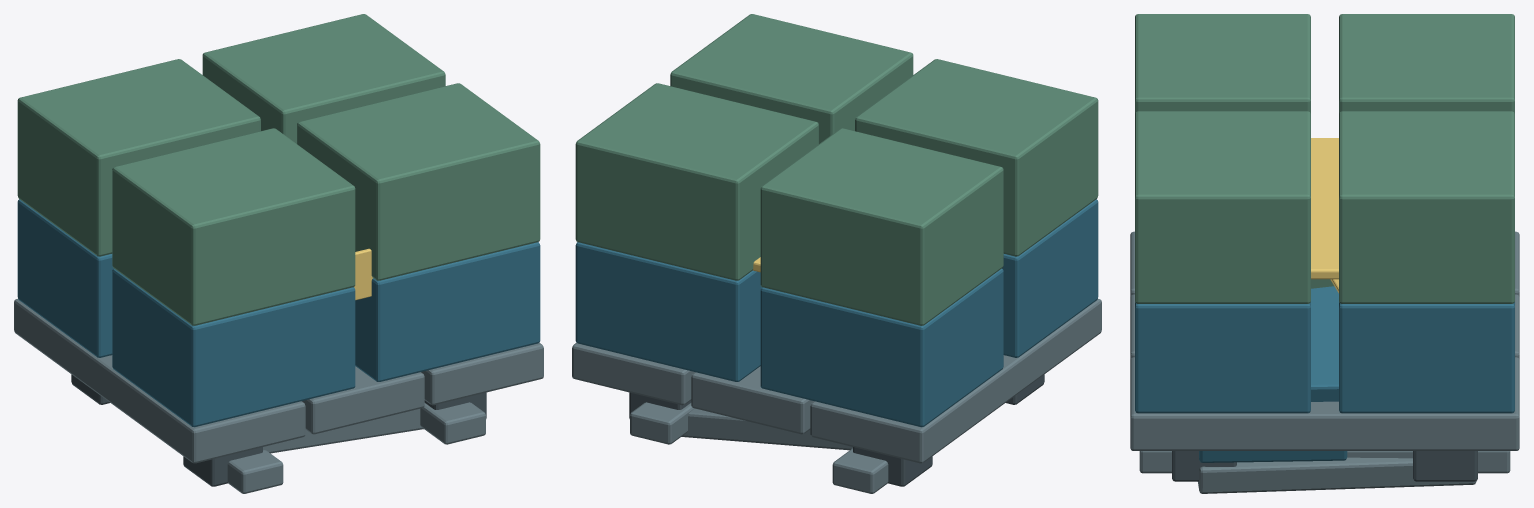
File: pallet_stack_d2.glb
3 renders of one model, left to right at view 1: azimuth 30°, elevation 25°; view 2: azimuth 150°, elevation 25°; view 3: azimuth 270°, elevation 25°, orthographic. The views are drawn at different scales.
Parts seen in each view (by area): view 1: Stacked crate.044, Stacked crate.046, Stacked crate.040, Stacked crate.045, Stacked crate.042, Stacked crate.047, Pallet deck board.018, Stacked crate.041, Pallet deck board.019, Pallet deck board.020, Broken deck.001, Pallet runner.011 (+3 smaller); view 2: Stacked crate.045, Stacked crate.047, Stacked crate.041, Stacked crate.044, Stacked crate.043, Stacked crate.046, Pallet deck board.018, Stacked crate.040, Pallet deck board.019, Pallet deck board.020, Broken deck.001, Pallet runner.011 (+2 smaller); view 3: Stacked crate.046, Stacked crate.047, Stacked crate.042, Stacked crate.043, Stacked crate.044, Stacked crate.045, Pallet deck board.020, Broken deck.001, Lower crate crushed.001, Load wrap.005, Pallet block.027, Pallet runner.011 (+3 smaller).
Boxes of the visible parts, x1,y1,x2,y2 form: Stacked crate.044: [112, 128, 355, 325]; Stacked crate.046: [297, 83, 540, 280]; Stacked crate.040: [112, 268, 355, 427]; Stacked crate.045: [17, 59, 260, 256]; Stacked crate.042: [355, 242, 540, 381]; Stacked crate.047: [202, 14, 445, 143]; Pallet deck board.018: [14, 299, 305, 463]; Stacked crate.041: [17, 199, 113, 357]; Pallet deck board.019: [302, 366, 424, 434]; Pallet deck board.020: [421, 343, 543, 405]; Broken deck.001: [263, 409, 423, 453]; Pallet runner.011: [420, 402, 485, 444]; Stacked crate.045: [760, 128, 1003, 325]; Stacked crate.047: [575, 83, 818, 280]; Stacked crate.041: [760, 268, 1003, 427]; Stacked crate.044: [855, 59, 1098, 256]; Stacked crate.043: [575, 242, 761, 381]; Stacked crate.046: [670, 14, 913, 143]; Pallet deck board.018: [810, 299, 1101, 463]; Stacked crate.040: [1002, 199, 1098, 357]; Pallet deck board.019: [691, 366, 813, 434]; Pallet deck board.020: [572, 343, 694, 405]; Broken deck.001: [681, 408, 852, 450]; Pallet runner.011: [630, 402, 694, 444]; Stacked crate.046: [1135, 111, 1310, 303]; Stacked crate.047: [1339, 111, 1514, 303]; Stacked crate.042: [1135, 302, 1310, 413]; Stacked crate.043: [1339, 302, 1514, 413]; Stacked crate.044: [1135, 14, 1310, 113]; Stacked crate.045: [1339, 14, 1514, 113]; Pallet deck board.020: [1130, 357, 1519, 450]; Broken deck.001: [1198, 457, 1476, 493]; Lower crate crushed.001: [1199, 286, 1347, 462]; Load wrap.005: [1311, 138, 1338, 279]; Pallet block.027: [1413, 451, 1477, 481]; Pallet runner.011: [1139, 451, 1510, 473].
Size of the model in its own units: 2.36 by 1.89 by 2.1.
